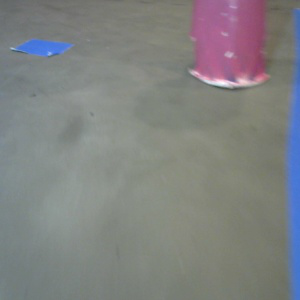right: (186, 1, 272, 92)
